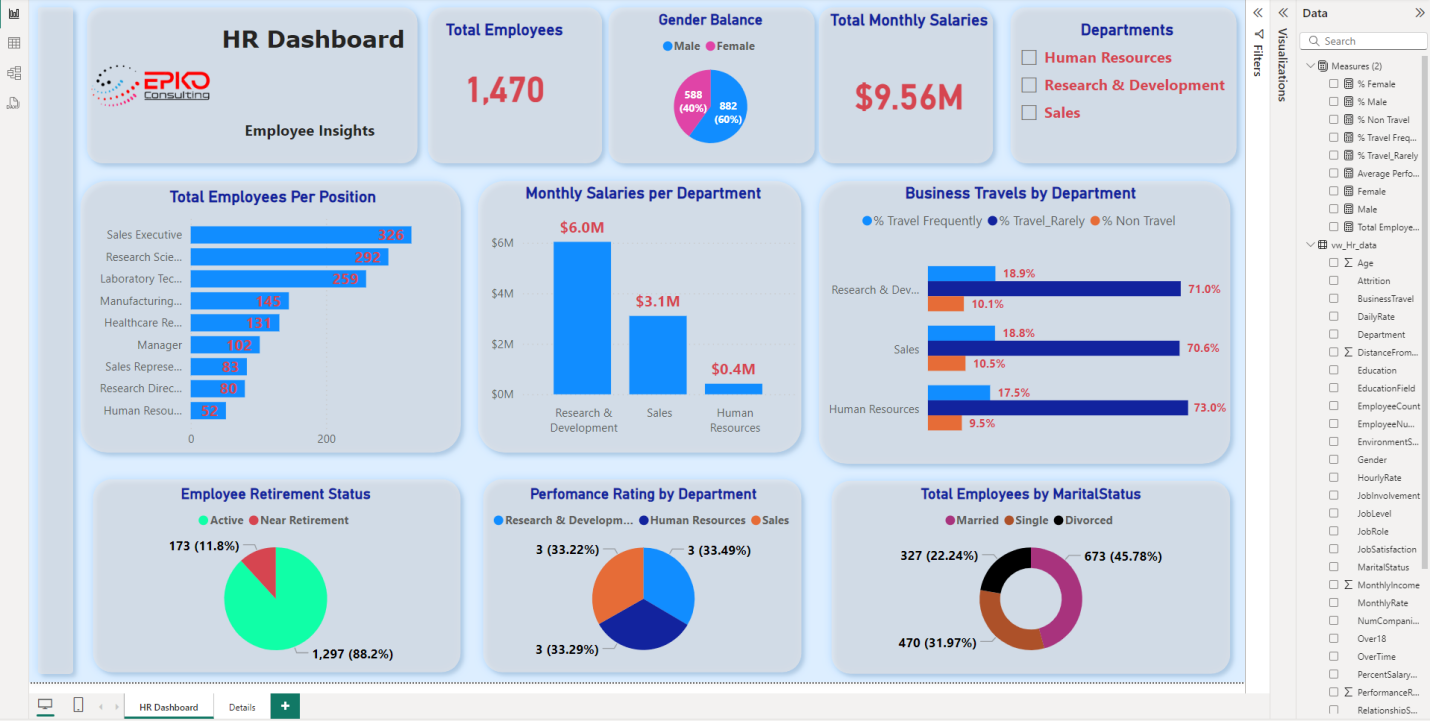

The page's visual inventory and layout, read from the dashboard file:
{"tool":"powerbi","page":{"name":"HR Dashboard","canvas":[1280,720],"ordinal":0},"visuals":[{"type":"shape","box":[51.8,0,366.1,182.6],"z":0},{"type":"shape","box":[410.6,0,201.7,182.6],"z":1000},{"type":"shape","box":[600.5,0,235.3,182.6],"z":2000},{"type":"shape","box":[1023.8,0,256.2,182.6],"z":3000},{"type":"shape","box":[44.5,182.6,418.8,304.3],"z":4000},{"type":"shape","box":[463.3,182.6,358.8,304.3],"z":5000},{"type":"shape","box":[822.1,182.6,451.5,316.1],"z":6000},{"type":"shape","box":[58.1,496.9,405.2,221.7],"z":7000},{"type":"shape","box":[468.8,496.9,353.4,221.7],"z":8000},{"type":"shape","box":[835.8,498.7,437.9,221.7],"z":9000},{"type":"shape","box":[0,0,55.4,720.4],"z":10000},{"type":"textbox","box":[198,22.7,212.6,53.6],"z":11000},{"type":"textbox","box":[210.8,122.6,169.9,43.6],"z":12000},{"type":"image","box":[58.1,16.4,139.9,149.9],"z":13000},{"type":"card","title":"Total Employees","fields":{"Values":["Measures (2).Total Employees"]},"box":[417.9,22.7,165.3,119.9],"z":14000},{"type":"slicer","title":"Departments","fields":{"Values":["vw_Hr_data.Department"]},"box":[1032,22.7,248,136.3],"z":15000},{"type":"columnChart","title":"Monthly  Salaries per Department","fields":{"Y":["Sum(vw_Hr_data.MonthlyIncome)"],"Category":["vw_Hr_data.Department"]},"box":[481.5,194.4,330.7,273.4],"z":16000},{"type":"clusteredBarChart","title":"Total Employees Per Position","fields":{"Category":["vw_Hr_data.JobRole"],"Y":["Measures (2).Total Employees"]},"box":[58.1,198.9,397,283.4],"z":17000},{"type":"shape","box":[822.1,0,201.7,182.6],"z":18000},{"type":"card","title":"Total Monthly Salaries","fields":{"Values":["Sum(vw_Hr_data.MonthlyIncome)"]},"box":[835.8,12.7,181.7,156.3],"z":19000},{"type":"pieChart","title":"Gender Balance","fields":{"Category":["vw_Hr_data.Gender"],"Y":["Measures (2).Total Employees"]},"box":[612.3,12.7,209.9,156.3],"z":20000},{"type":"pieChart","title":"Perfomance Rating by Department","fields":{"Category":["vw_Hr_data.Department"],"Y":["Measures (2).Average Perfomance Rating"]},"box":[481.5,512.4,330.7,194.4],"z":21000},{"type":"clusteredBarChart","title":"Business Travels by Department","fields":{"Category":["vw_Hr_data.Department"],"Y":["Measures (2).% Travel Frequently","Measures (2).% Travel_Rarely","Measures (2).% Non Travel"]},"box":[822.1,194.4,443.3,292.5],"z":22000},{"type":"donutChart","fields":{"Category":["vw_Hr_data.MaritalStatus"],"Y":["Measures (2).Total Employees"]},"box":[877.6,512.4,353.4,194.4],"z":23000},{"type":"pieChart","title":"Employee Retirement Status","fields":{"Category":["vw_Hr_data.Retirement Status"],"Y":["Measures (2).Total Employees"]},"box":[70.9,512.4,377.9,194.4],"z":24000}]}

Visuals, with their boxes on the page's 1280x720 design canvas (x1, y1, x2, y2). These are canvas units, not pixel positions in the 1430x721 screenshot, which may show the page scaled, cropped or inside an application window:
shape: (52, 0, 418, 183)
shape: (411, 0, 612, 183)
shape: (600, 0, 836, 183)
shape: (1024, 0, 1280, 183)
shape: (44, 183, 463, 487)
shape: (463, 183, 822, 487)
shape: (822, 183, 1274, 499)
shape: (58, 497, 463, 719)
shape: (469, 497, 822, 719)
shape: (836, 499, 1274, 720)
shape: (0, 0, 55, 720)
textbox: (198, 23, 411, 76)
textbox: (211, 123, 381, 166)
image: (58, 16, 198, 166)
"Total Employees" card: (418, 23, 583, 143)
"Departments" slicer: (1032, 23, 1280, 159)
"Monthly  Salaries per Department" columnChart: (482, 194, 812, 468)
"Total Employees Per Position" clusteredBarChart: (58, 199, 455, 482)
shape: (822, 0, 1024, 183)
"Total Monthly Salaries" card: (836, 13, 1018, 169)
"Gender Balance" pieChart: (612, 13, 822, 169)
"Perfomance Rating by Department" pieChart: (482, 512, 812, 707)
"Business Travels by Department" clusteredBarChart: (822, 194, 1265, 487)
donutChart - vw_Hr_data.MaritalStatus x Measures (2).Total Employees: (878, 512, 1231, 707)
"Employee Retirement Status" pieChart: (71, 512, 449, 707)
